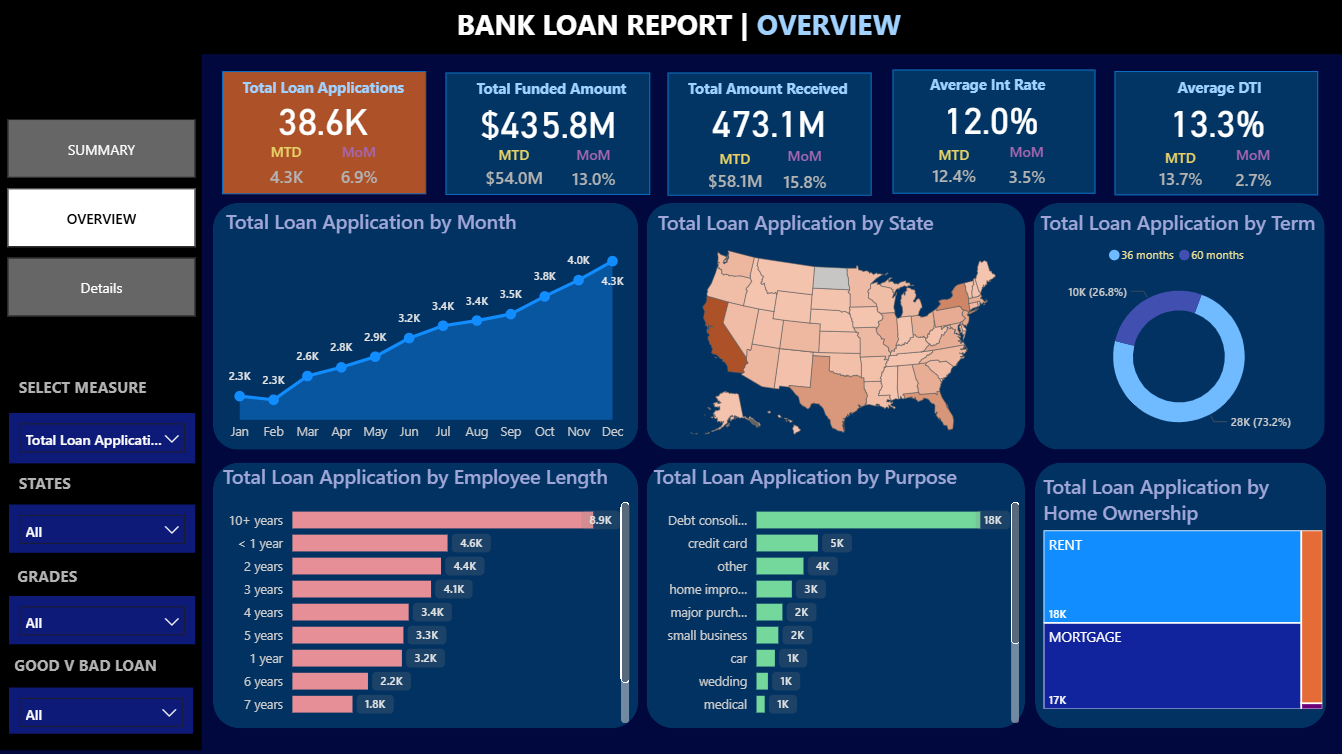

What the dashboard file says about the page in this screenshot:
{"tool":"powerbi","page":{"name":"OVERVIEW","canvas":[1280,720],"ordinal":1},"visuals":[{"type":"shape","box":[0,52,192,664],"z":0},{"type":"shape","box":[0,0,1279.7,52.5],"z":1000},{"type":"textbox","box":[430.6,0,487.4,49.7],"z":2000},{"type":"shape","box":[849.8,67.6,193.3,118.3],"z":3000,"group":"g4"},{"type":"shape","box":[1061.5,68.5,194,118.4],"z":3000,"group":"g5"},{"type":"group","id":"g1","title":"Group 1","box":[202.9,69.1,210,120],"z":3000},{"type":"shape","box":[211,69.1,194.4,117.5],"z":3000,"group":"g1"},{"type":"shape","box":[423.7,69.7,195,116.7],"z":3000,"group":"g6"},{"type":"shape","box":[635,69.7,194.4,117.5],"z":3000,"group":"g2"},{"type":"group","id":"g2","title":"Group 1","box":[626.9,69.7,208,122],"z":4000},{"type":"card","fields":{"Values":["bank_loan_data.Total Funded Amount"]},"box":[426.6,91.1,189,50.4],"z":4000,"group":"g7"},{"type":"card","fields":{"Values":["bank_loan_data.Average Interest Rate"]},"box":[838.7,91.1,209.1,42.8],"z":4000,"group":"g4"},{"type":"card","fields":{"Values":["bank_loan_data.Total Loan Application"]},"box":[202.9,93.4,208.6,42.5],"z":4000,"group":"g1"},{"type":"card","fields":{"Values":["bank_loan_data.Avg DTI"]},"box":[1053.9,93.7,209.1,42.8],"z":4000,"group":"g5"},{"type":"card","fields":{"Values":["bank_loan_data.Total Amount Received"]},"box":[626.9,94,208.6,42.5],"z":4000,"group":"g2"},{"type":"textbox","box":[861.4,65.9,178.9,32.8],"z":5000,"group":"g4"},{"type":"textbox","box":[1097,68.9,121.5,32.4],"z":5000,"group":"g5"},{"type":"textbox","box":[225.2,69.1,180.3,32.4],"z":5000,"group":"g1"},{"type":"group","id":"g3","title":"Group 2","box":[426.6,69.7,188.3,118.3],"z":5000,"group":"g6"},{"type":"textbox","box":[447.4,69.7,165.5,32],"z":5000,"group":"g7"},{"type":"textbox","box":[649.2,69.7,180.3,32.4],"z":5000,"group":"g2"},{"type":"shape","box":[203.5,194,405,235],"z":5000},{"type":"group","id":"g4","title":"Group 1","box":[838.7,65.9,209.1,123.5],"z":6000},{"type":"card","title":"MTD","fields":{"Values":["bank_loan_data.MTD Loan Applications"]},"box":[246.3,136.1,53.6,52],"z":6000,"group":"g1"},{"type":"card","title":"MTD","fields":{"Values":["bank_loan_data.MTD Funded Amount"]},"box":[451.8,137.7,73.1,47.9],"z":6000,"group":"g7"},{"type":"card","title":"MTD","fields":{"Values":["bank_loan_data.MTD Avg Int Rate"]},"box":[876.5,139,65.5,45.4],"z":6000,"group":"g4"},{"type":"card","title":"MTD","fields":{"Values":["bank_loan_data.MTD Avg DTI"]},"box":[1091.7,141.6,65.5,45.4],"z":6000,"group":"g5"},{"type":"card","title":"MTD","fields":{"Values":["bank_loan_data.MTD Total Amount Received"]},"box":[667.2,142.8,65.5,45.4],"z":6000,"group":"g2"},{"type":"group","id":"g5","title":"Group 1","box":[1053.9,68.5,208.3,125],"z":7000},{"type":"card","title":"MoM","fields":{"Values":["bank_loan_data.MoM Loan Appliocations"]},"box":[314.8,136.1,54.8,52.7],"z":7000,"group":"g1"},{"type":"card","title":"MoM","fields":{"Values":["bank_loan_data.MoM Avg Int Rate"]},"box":[949.6,136.5,55.4,52.9],"z":7000,"group":"g4"},{"type":"card","title":"MoM","fields":{"Values":["bank_loan_data.MoM Total Funded Amount"]},"box":[527.4,137.7,73.1,50.4],"z":7000,"group":"g7"},{"type":"card","title":"MoM","fields":{"Values":["bank_loan_data.MoM Avg DTI"]},"box":[1164.8,139.1,55.4,52.9],"z":7000,"group":"g5"},{"type":"card","title":"MoM","fields":{"Values":["bank_loan_data.MoM Total Amount Received"]},"box":[737.8,140.3,55.4,52.9],"z":7000,"group":"g2"},{"type":"group","id":"g6","title":"Group 4","box":[423.7,69.7,196,118],"z":8000},{"type":"group","id":"g7","title":"Group 3","box":[426.6,69.7,189,118.4],"z":8001,"group":"g3"},{"type":"slicer","fields":{"Values":["bank_loan_data.address_state"]},"box":[8.8,481.4,177.2,45.9],"z":9000},{"type":"textbox","box":[13.1,446.4,81,35],"z":10000},{"type":"slicer","fields":{"Values":["bank_loan_data.grade"]},"box":[8.8,568.9,177.2,45.9],"z":11000},{"type":"textbox","box":[10.9,533.9,81,35],"z":12000},{"type":"slicer","fields":{"Values":["bank_loan_data.Good vs Bad Loan"]},"box":[8.8,656.4,175,43.8],"z":13000},{"type":"textbox","box":[8.8,619.2,172.9,37.2],"z":14000},{"type":"areaChart","fields":{"Y":["bank_loan_data.Total Loan Application"],"Category":["Date_Table.Month"]},"box":[210.6,198.5,390.9,230.9],"z":15000},{"type":"slicer","fields":{"Values":["Select Measure.Select Measure"]},"box":[8.8,393.8,177.2,48.1],"z":16000},{"type":"textbox","box":[13.1,354.5,137.8,37.2],"z":17000},{"type":"shape","box":[615.7,194.4,360.5,234.9],"z":18000},{"type":"shapeMap","fields":{"Value":["bank_loan_data.Total Loan Application"],"Category":["bank_loan_data.address_state"]},"box":[621.8,200.5,362.5,228.9],"z":19000},{"type":"shape","box":[984.3,194.4,277.5,234.9],"z":20000},{"type":"donutChart","fields":{"Y":["bank_loan_data.Total Loan Application"],"Category":["bank_loan_data.term"]},"box":[986.3,200.5,273.4,228.9],"z":21000},{"type":"shape","box":[202.5,441.5,405.1,253.2],"z":22000},{"type":"barChart","fields":{"Y":["bank_loan_data.Total Loan Application"],"Category":["bank_loan_data.emp_length"]},"box":[206.6,441.5,397,253.2],"z":23000},{"type":"shape","box":[615.7,441.5,360.5,253.2],"z":24000},{"type":"barChart","fields":{"Y":["bank_loan_data.Total Loan Application"],"Category":["bank_loan_data.purpose"]},"box":[617.7,441.5,358.5,253.2],"z":25000},{"type":"shape","box":[986.3,441.5,277.5,253.2],"z":26000},{"type":"treemap","fields":{"Values":["bank_loan_data.Total Loan Application"],"Group":["bank_loan_data.home_ownership"]},"box":[989,450.7,275.7,229.7],"z":27000},{"type":"pageNavigator","box":[6.6,113.8,179.4,188.2],"z":28000}]}

Visuals, with their boxes in screenshot pixels (x1, y1, x2, y2), scaled from the page's 1280x720 canvas onto the 1342x754 screenshot:
shape: [x1=0, y1=54, x2=201, y2=750]
shape: [x1=0, y1=0, x2=1341, y2=55]
textbox: [x1=451, y1=0, x2=962, y2=52]
shape: [x1=891, y1=71, x2=1094, y2=195]
shape: [x1=1113, y1=72, x2=1316, y2=196]
"Group 1" group: [x1=213, y1=72, x2=433, y2=198]
shape: [x1=221, y1=72, x2=425, y2=195]
shape: [x1=444, y1=73, x2=649, y2=195]
shape: [x1=666, y1=73, x2=870, y2=196]
"Group 1" group: [x1=657, y1=73, x2=875, y2=201]
card - bank_loan_data.Total Funded Amount: [x1=447, y1=95, x2=645, y2=148]
card - bank_loan_data.Average Interest Rate: [x1=879, y1=95, x2=1099, y2=140]
card - bank_loan_data.Total Loan Application: [x1=213, y1=98, x2=431, y2=142]
card - bank_loan_data.Avg DTI: [x1=1105, y1=98, x2=1324, y2=143]
card - bank_loan_data.Total Amount Received: [x1=657, y1=98, x2=876, y2=143]
textbox: [x1=903, y1=69, x2=1091, y2=103]
textbox: [x1=1150, y1=72, x2=1278, y2=106]
textbox: [x1=236, y1=72, x2=425, y2=106]
"Group 2" group: [x1=447, y1=73, x2=645, y2=197]
textbox: [x1=469, y1=73, x2=643, y2=107]
textbox: [x1=681, y1=73, x2=870, y2=107]
shape: [x1=213, y1=203, x2=638, y2=449]
"Group 1" group: [x1=879, y1=69, x2=1099, y2=198]
"MTD" card: [x1=258, y1=143, x2=314, y2=197]
"MTD" card: [x1=474, y1=144, x2=550, y2=194]
"MTD" card: [x1=919, y1=146, x2=988, y2=193]
"MTD" card: [x1=1145, y1=148, x2=1213, y2=196]
"MTD" card: [x1=700, y1=150, x2=768, y2=197]
"Group 1" group: [x1=1105, y1=72, x2=1323, y2=203]
"MoM" card: [x1=330, y1=143, x2=388, y2=198]
"MoM" card: [x1=996, y1=143, x2=1054, y2=198]
"MoM" card: [x1=553, y1=144, x2=630, y2=197]
"MoM" card: [x1=1221, y1=146, x2=1279, y2=201]
"MoM" card: [x1=774, y1=147, x2=832, y2=202]
"Group 4" group: [x1=444, y1=73, x2=650, y2=197]
"Group 3" group: [x1=447, y1=73, x2=645, y2=197]
slicer - bank_loan_data.address_state: [x1=9, y1=504, x2=195, y2=552]
textbox: [x1=14, y1=467, x2=99, y2=504]
slicer - bank_loan_data.grade: [x1=9, y1=596, x2=195, y2=644]
textbox: [x1=11, y1=559, x2=96, y2=596]
slicer - bank_loan_data.Good vs Bad Loan: [x1=9, y1=687, x2=193, y2=733]
textbox: [x1=9, y1=648, x2=191, y2=687]
areaChart - bank_loan_data.Total Loan Application x Date_Table.Month: [x1=221, y1=208, x2=631, y2=450]
slicer - Select Measure.Select Measure: [x1=9, y1=412, x2=195, y2=463]
textbox: [x1=14, y1=371, x2=158, y2=410]
shape: [x1=646, y1=204, x2=1023, y2=450]
shapeMap - bank_loan_data.Total Loan Application x bank_loan_data.address_state: [x1=652, y1=210, x2=1032, y2=450]
shape: [x1=1032, y1=204, x2=1323, y2=450]
donutChart - bank_loan_data.Total Loan Application x bank_loan_data.term: [x1=1034, y1=210, x2=1321, y2=450]
shape: [x1=212, y1=462, x2=637, y2=728]
barChart - bank_loan_data.Total Loan Application x bank_loan_data.emp_length: [x1=217, y1=462, x2=633, y2=728]
shape: [x1=646, y1=462, x2=1023, y2=728]
barChart - bank_loan_data.Total Loan Application x bank_loan_data.purpose: [x1=648, y1=462, x2=1023, y2=728]
shape: [x1=1034, y1=462, x2=1325, y2=728]
treemap - bank_loan_data.Total Loan Application x bank_loan_data.home_ownership: [x1=1037, y1=472, x2=1326, y2=713]
pageNavigator: [x1=7, y1=119, x2=195, y2=316]
